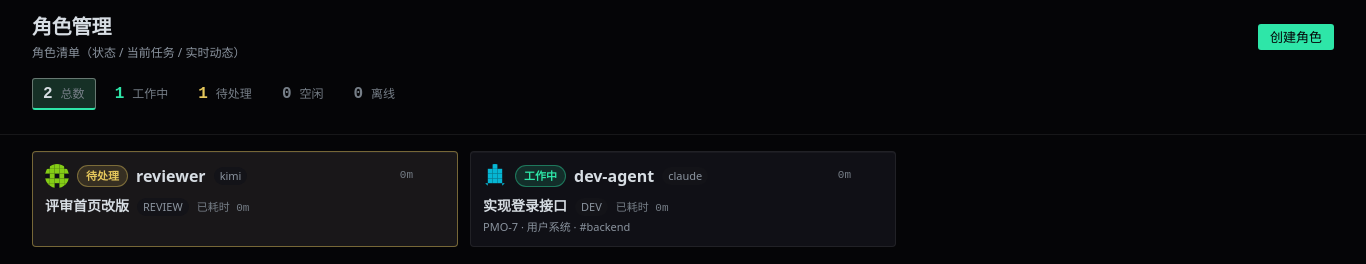
Test: AgentDashboardPage › §6.3 chip 点击过滤栅格、再点取消（待处理聚合阻塞/待评审/异常）
The width and height of the screenshot is (1366, 264).
Expected: the button "实现登录接口" is shown, x1=483 y1=196 x2=567 y2=216
Expected: the button "评审首页改版" is shown, x1=45 y1=196 x2=129 y2=216
Click the button "1 待处理": coordinates (225, 94) x1=187 y1=78 x2=263 y2=110
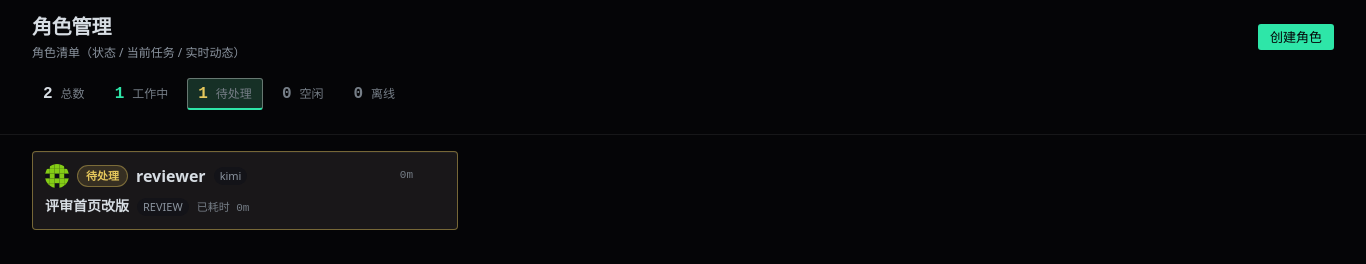
Expected: the button "评审首页改版" is shown, x1=45 y1=196 x2=129 y2=216
Now the button "实现登录接口" is gone
# 再点取消 → 全量恢复
Click the button "1 待处理": coordinates (225, 94) x1=187 y1=78 x2=263 y2=110
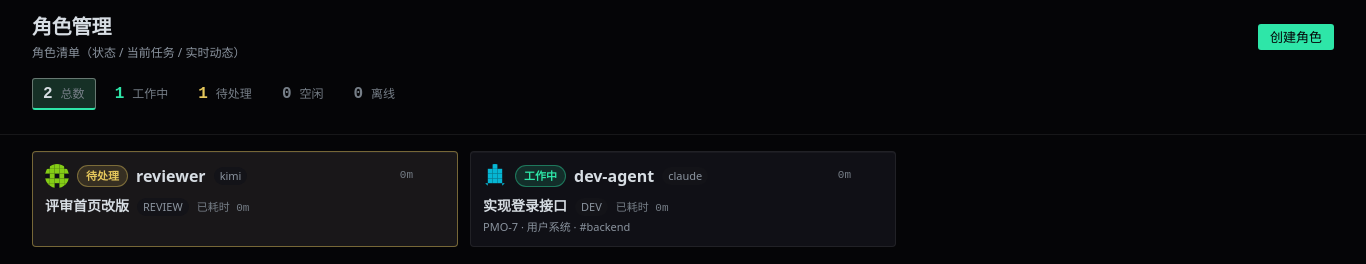
Expected: the button "评审首页改版" is shown, x1=45 y1=196 x2=129 y2=216
Now the button "实现登录接口" is shown, box x1=483 y1=196 x2=567 y2=216
